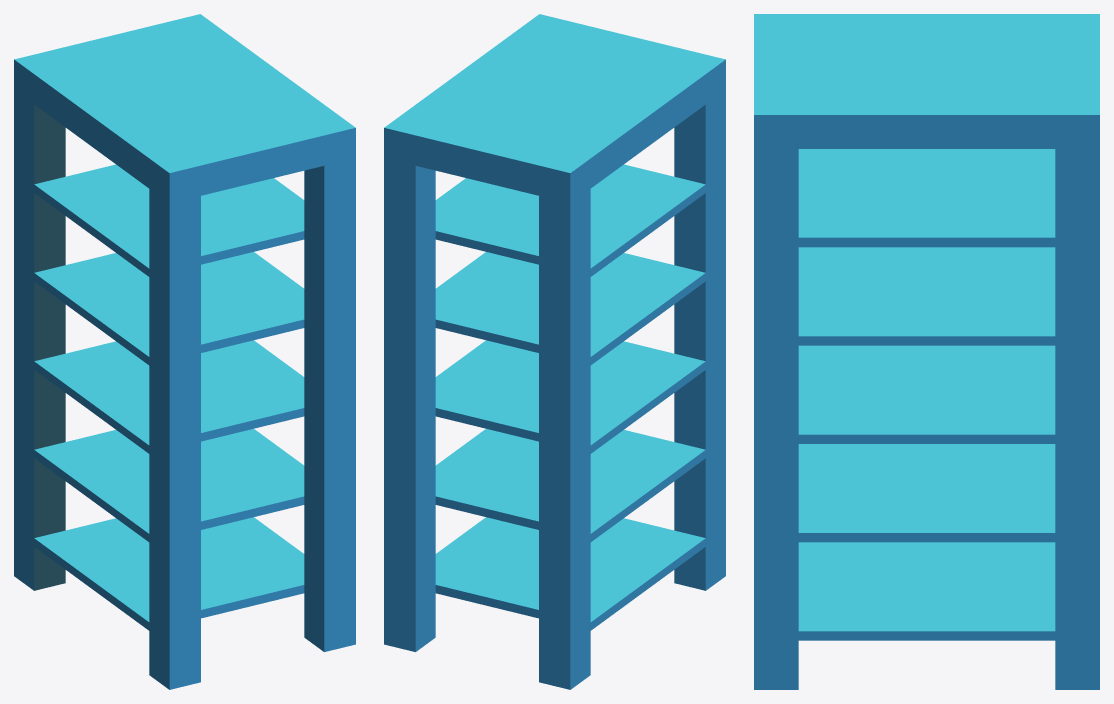
Rendered from Shelf_System.fbx.
3 views of the same model, side by side, from view 1: azimuth 30°, elevation 25°; view 2: azimuth 150°, elevation 25°; view 3: azimuth 270°, elevation 25° (orthographic). The views are drawn at different scales.
Visible parts, largest first — view 1: Cube; view 2: Cube; view 3: Cube.
Part boxes in pixels (<box>): Cube: <box>14,14,355,689</box>; Cube: <box>384,14,725,689</box>; Cube: <box>754,14,1099,689</box>.
Size of the model in its own units: 410 by 1087 by 592.
